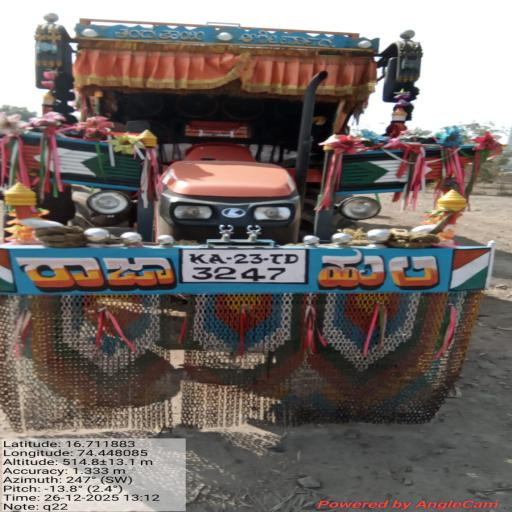number_plate: (176, 246, 318, 288)
